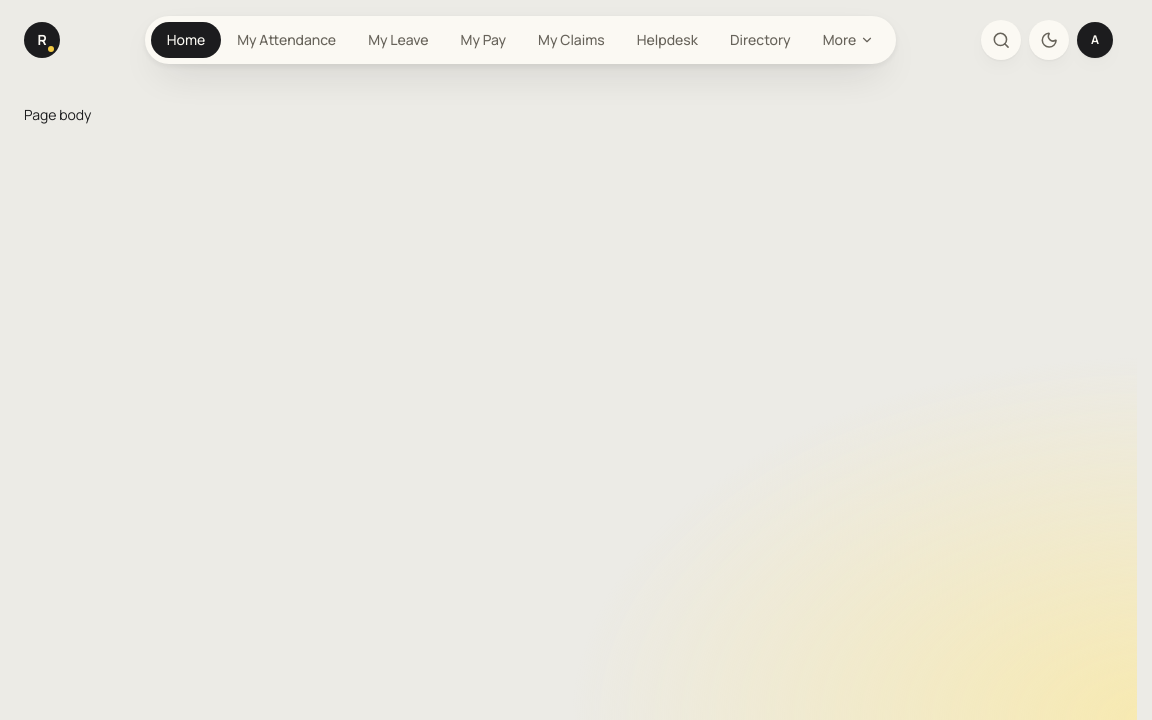
Scenario: AppShell › opens overflow destinations from More
Click the button "More".
click(848, 40)  # box x1=807 y1=22 x2=890 y2=58
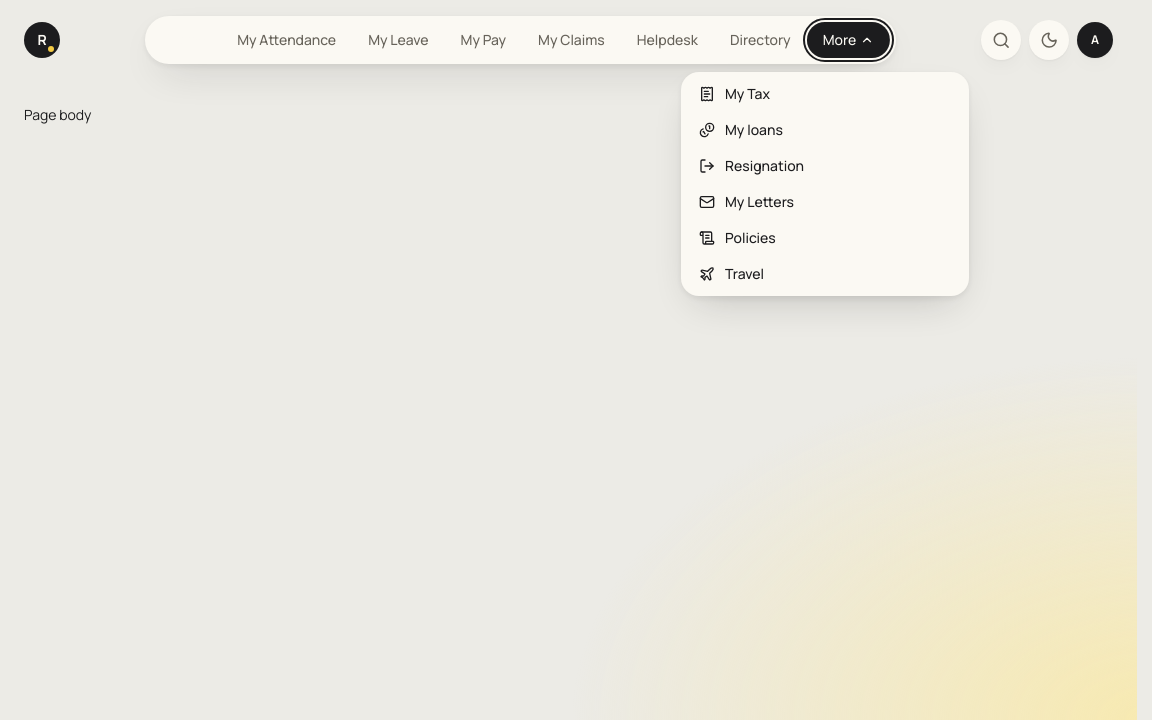
Expected: the menu item "Policies" is shown, x1=699 y1=228 x2=776 y2=247
Expected: the menu item "Travel" is shown, x1=699 y1=264 x2=764 y2=283
